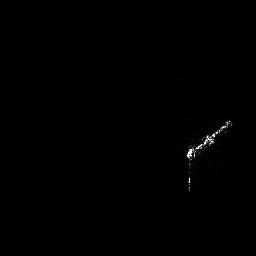ship: (181, 115, 235, 194)
